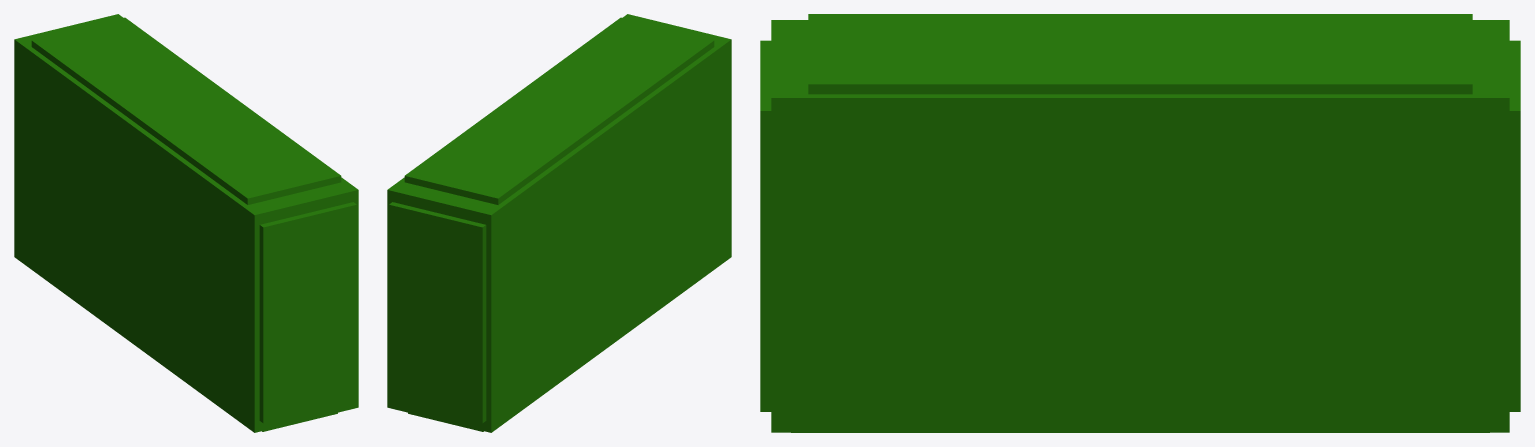
File: bush3.fbx
3 renders of one model, left to right at view 1: azimuth 30°, elevation 25°; view 2: azimuth 150°, elevation 25°; view 3: azimuth 270°, elevation 25°, orthographic. The views are drawn at different scales.
Visible parts, largest first — view 1: bush3; view 2: bush3; view 3: bush3.
Boxes of the visible parts, <box> form: bush3: <box>14,14,358,432</box>; bush3: <box>387,14,731,432</box>; bush3: <box>760,14,1520,432</box>.
Size of the model in its own units: 100 by 213 by 412.
